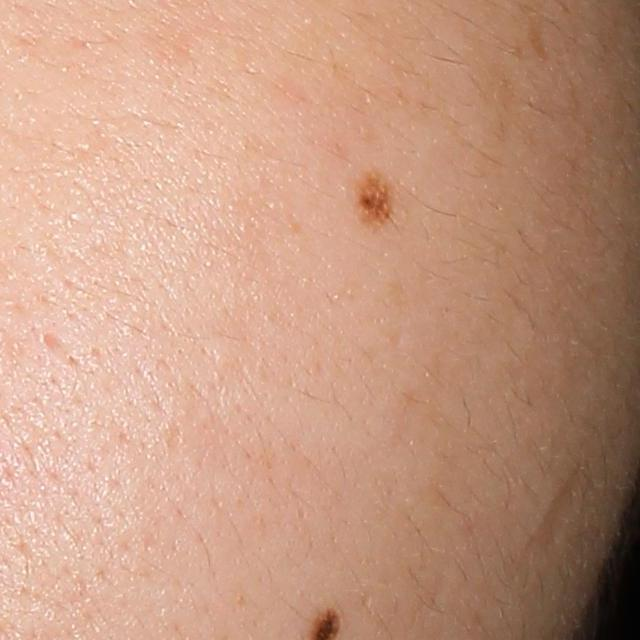atrophic_scar: (524, 460, 592, 563), (35, 327, 73, 361)
nevus: (351, 176, 392, 229)
